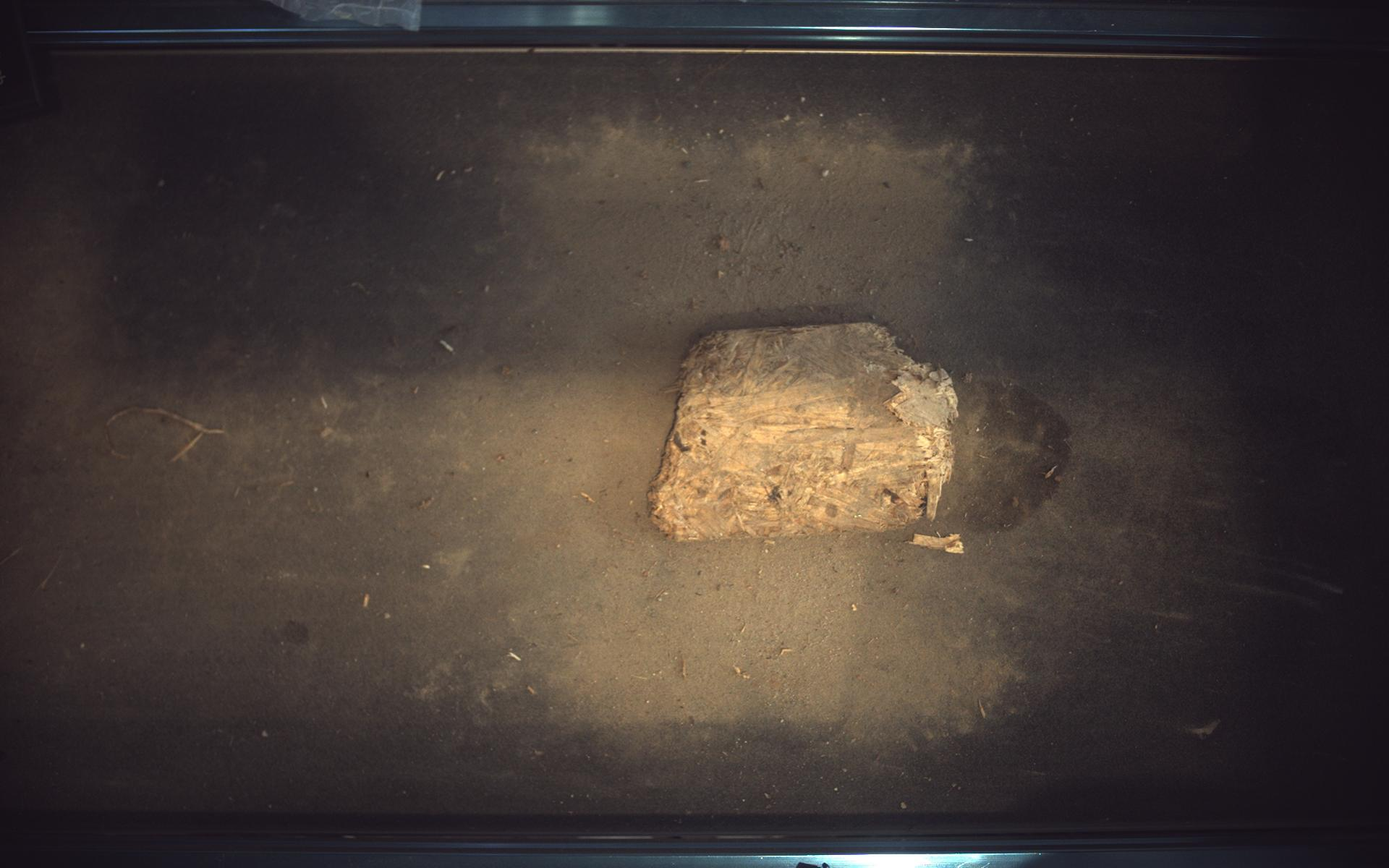wood: (649, 323, 960, 540)
